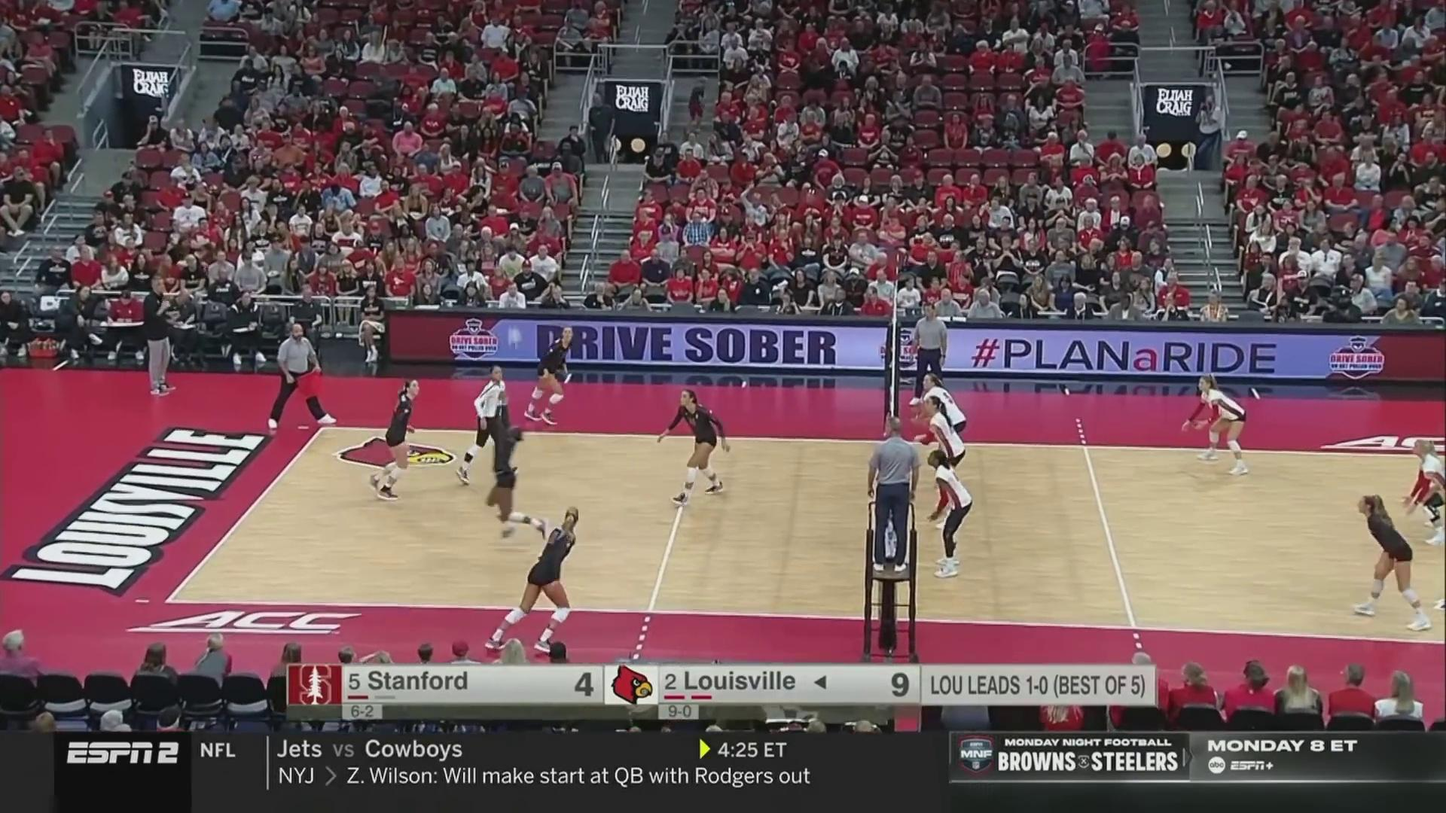player: (495, 506, 578, 653), (1357, 491, 1441, 627), (1180, 374, 1257, 477), (480, 406, 537, 543), (458, 360, 515, 494), (661, 392, 732, 499), (369, 381, 426, 504), (925, 448, 975, 575), (919, 396, 966, 528), (919, 374, 965, 480), (531, 328, 581, 424), (1405, 441, 1446, 552)
refree: (860, 424, 917, 576), (263, 324, 339, 434), (907, 304, 949, 410)
